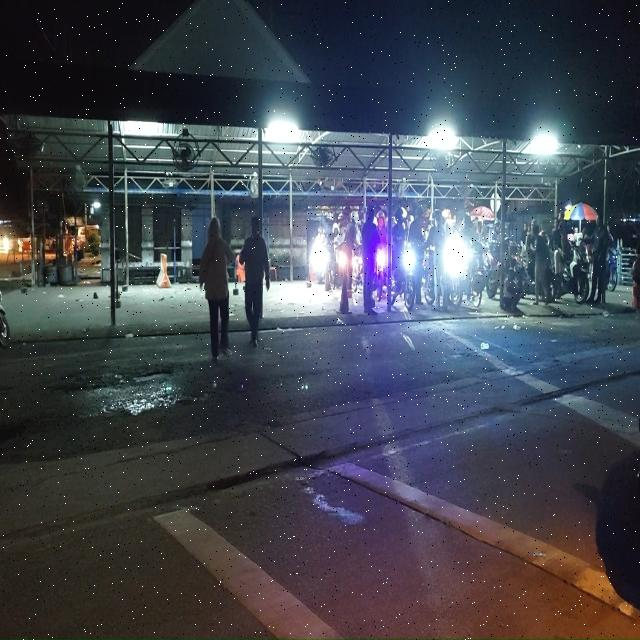Golongan II: (551, 243, 590, 305), (444, 234, 469, 308), (391, 244, 416, 311), (464, 245, 488, 308), (482, 243, 500, 300), (512, 255, 535, 298), (309, 238, 330, 282), (375, 245, 388, 302), (423, 249, 436, 304), (606, 248, 618, 292), (352, 245, 363, 292)
